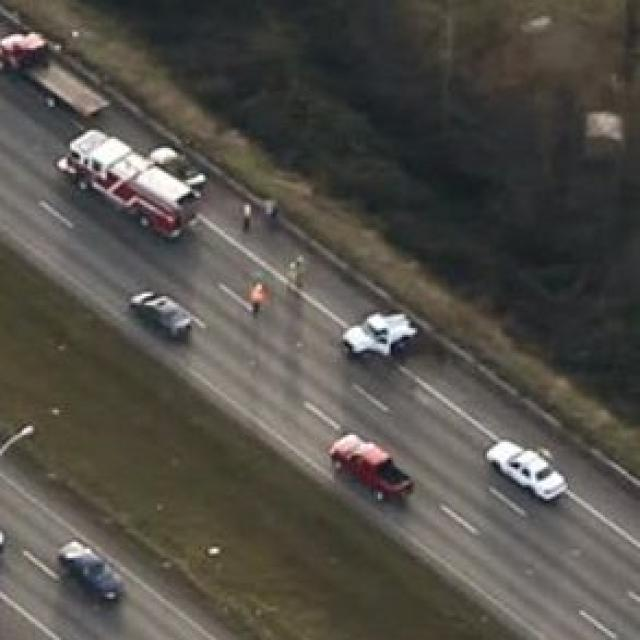traffic_incident: (330, 292, 421, 366)
